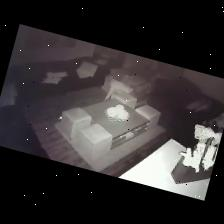person: (104, 77, 145, 105)
